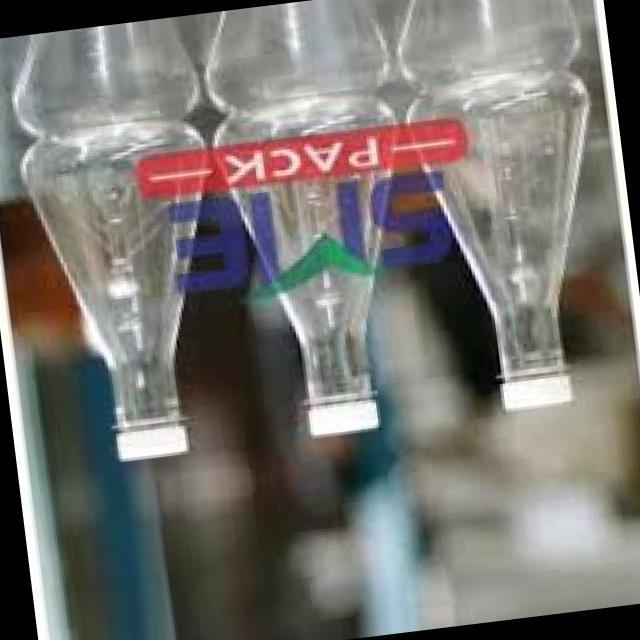good: (12, 14, 240, 474), (397, 0, 624, 427), (207, 0, 421, 448)
